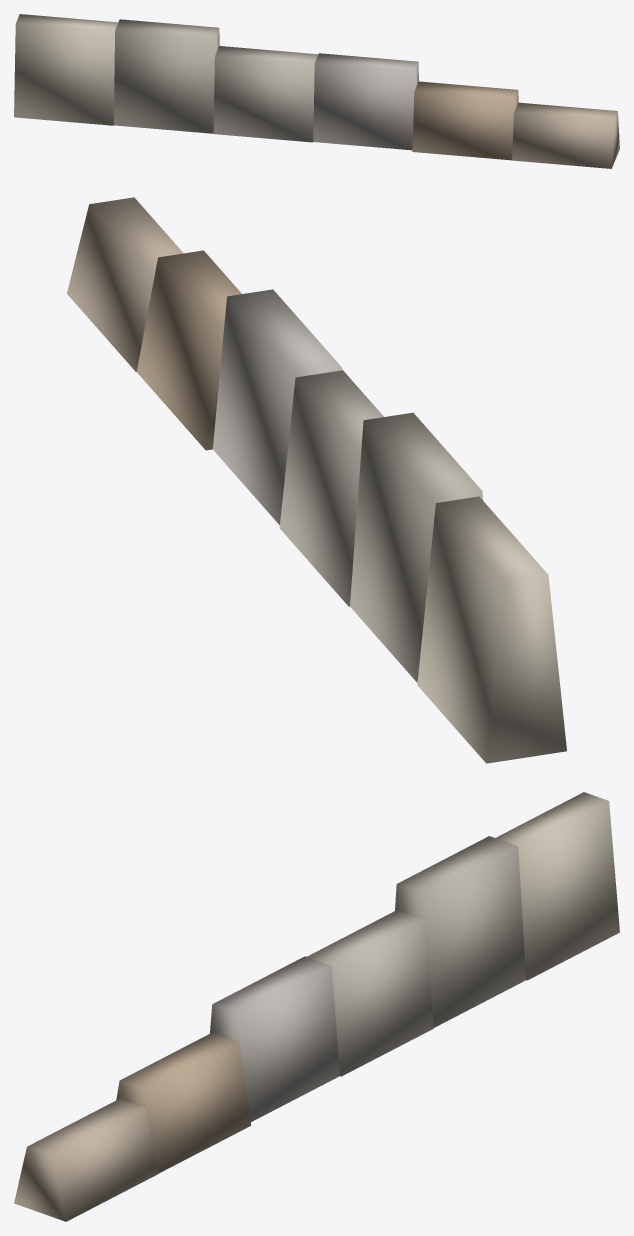
Rendered from farm_-44_-39_collision.glb.
3 views of the same model, one above another, from view 1: azimuth 30°, elevation 25°; view 2: azimuth 150°, elevation 25°; view 3: azimuth 270°, elevation 25° (orthographic). The views are drawn at different scales.
Parts seen in each view (by area): view 1: geometry_0; view 2: geometry_0; view 3: geometry_0.
Boxes of the visible parts, x1,y1,x2,y2 form: geometry_0: (14, 14, 619, 168); geometry_0: (67, 197, 566, 763); geometry_0: (14, 792, 619, 1221).
Bounding box in the file's own units: 7.39 × 1.6 × 6.36.
